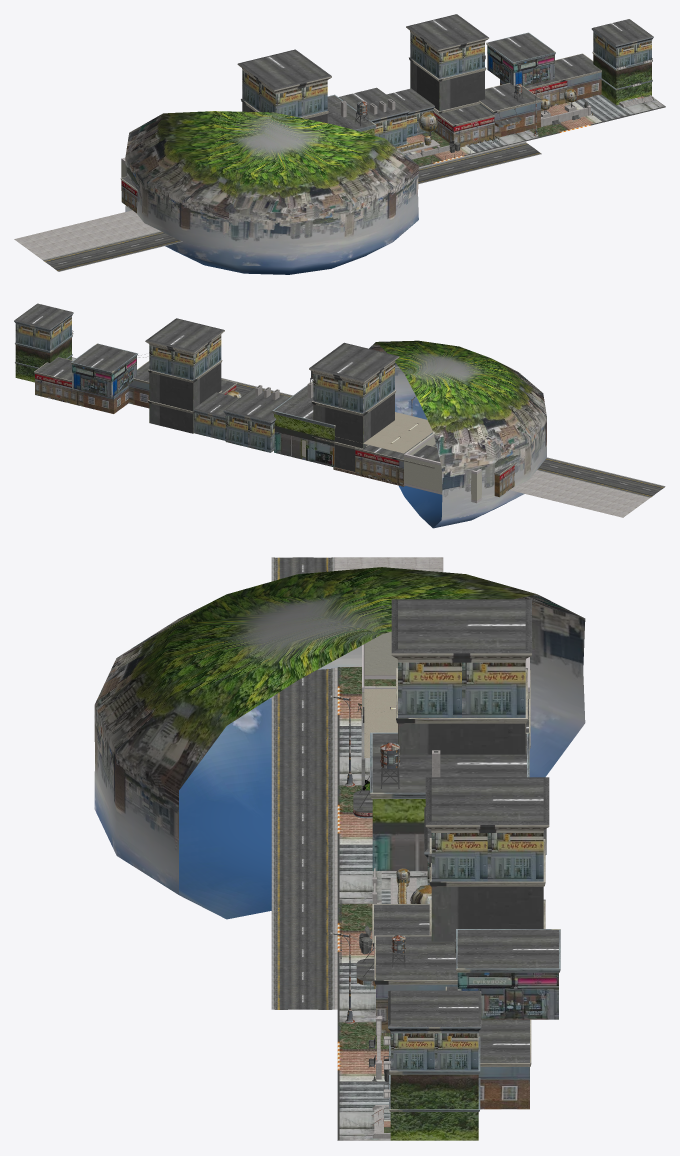
Rendered from Store_Clothes.glb.
3 renders of one model, top to bottom at view 1: azimuth 30°, elevation 25°; view 2: azimuth 150°, elevation 25°; view 3: azimuth 270°, elevation 25°, orthographic. The views are drawn at different scales.
Visible parts, largest first — view 1: Store_Clothes; view 2: Store_Clothes; view 3: Store_Clothes.
Boxes of the visible parts, left/top/right/bottom form: Store_Clothes: left=14, top=14, right=665, bottom=274; Store_Clothes: left=14, top=303, right=665, bottom=528; Store_Clothes: left=94, top=557, right=585, bottom=1140.
Size of the model in its own units: 598 by 136 by 212.
24 materials, 23 textured.
